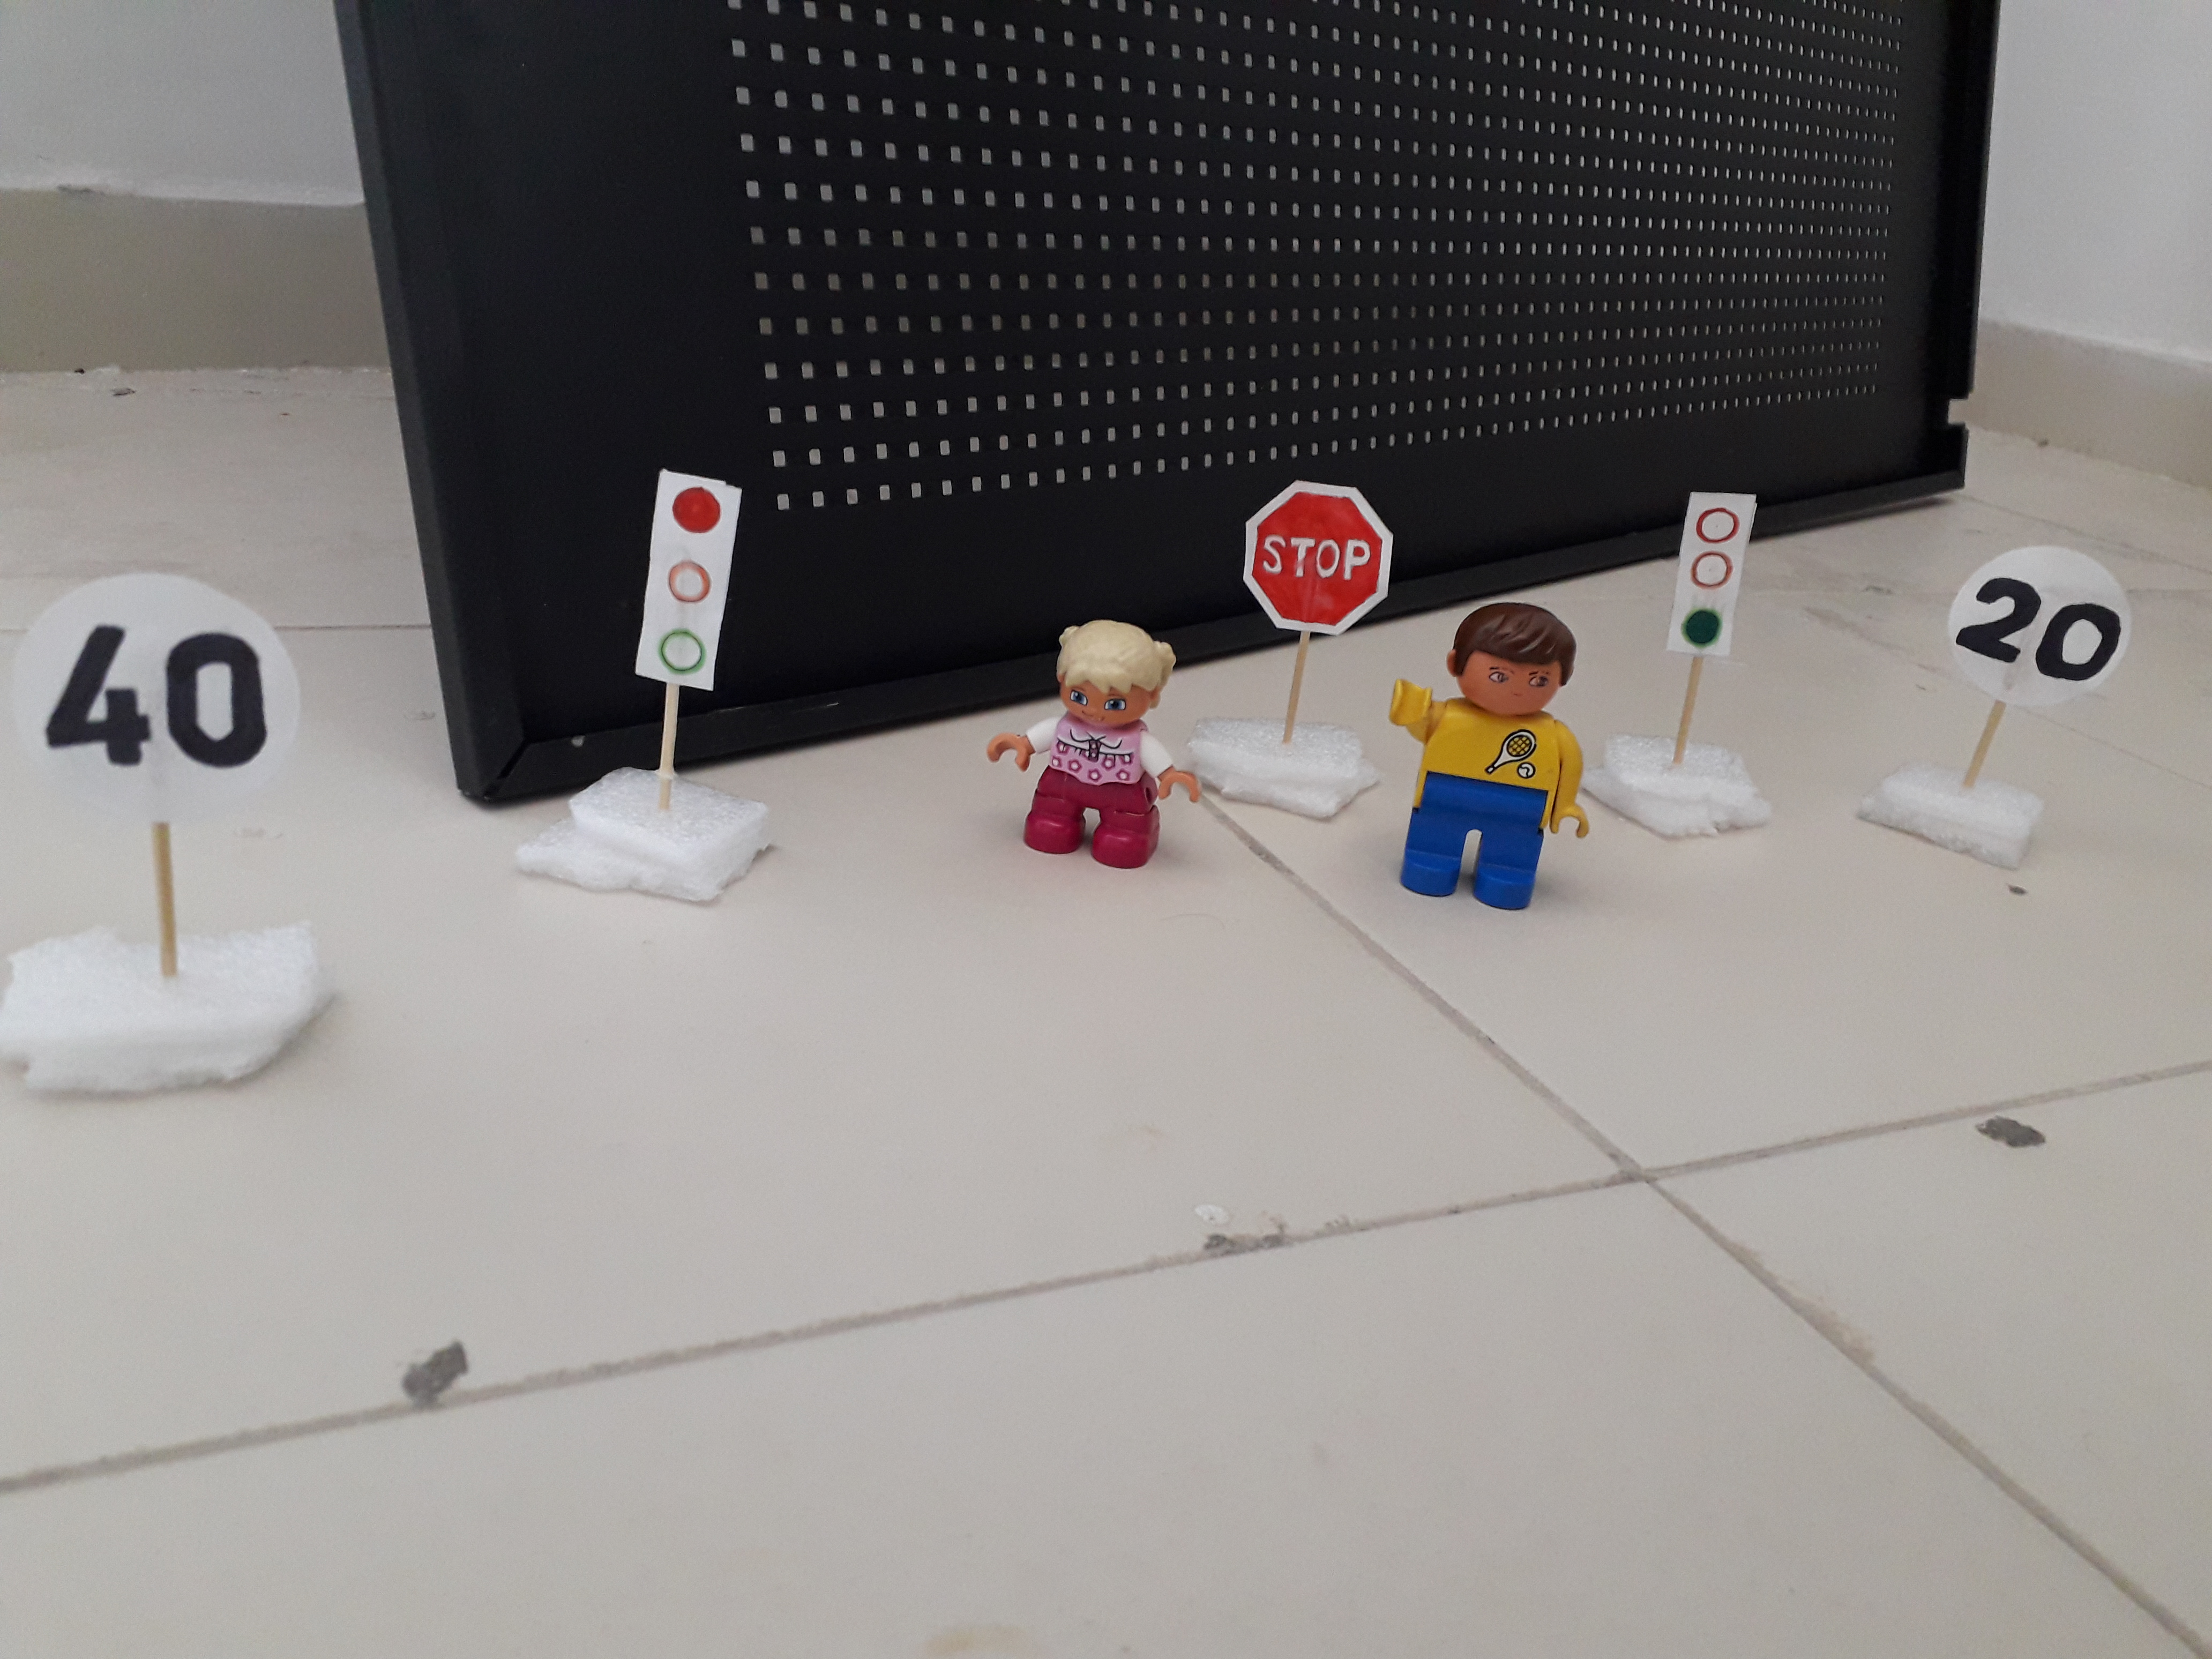20_sign: (1952, 543, 2135, 709)
40_sign: (2, 566, 311, 842)
green_light: (1669, 487, 1776, 671)
person: (1370, 592, 1627, 923), (992, 612, 1204, 883)
red_light: (632, 467, 752, 697)
stop_sign: (1235, 484, 1411, 643)
